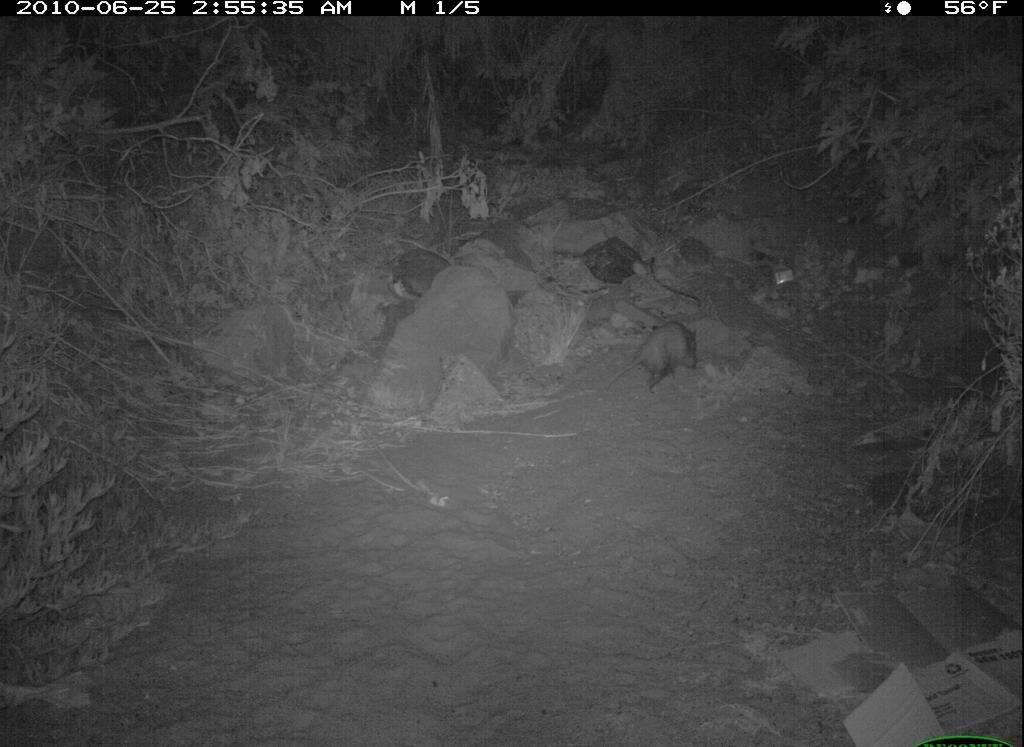opossum: (606, 319, 707, 400)
